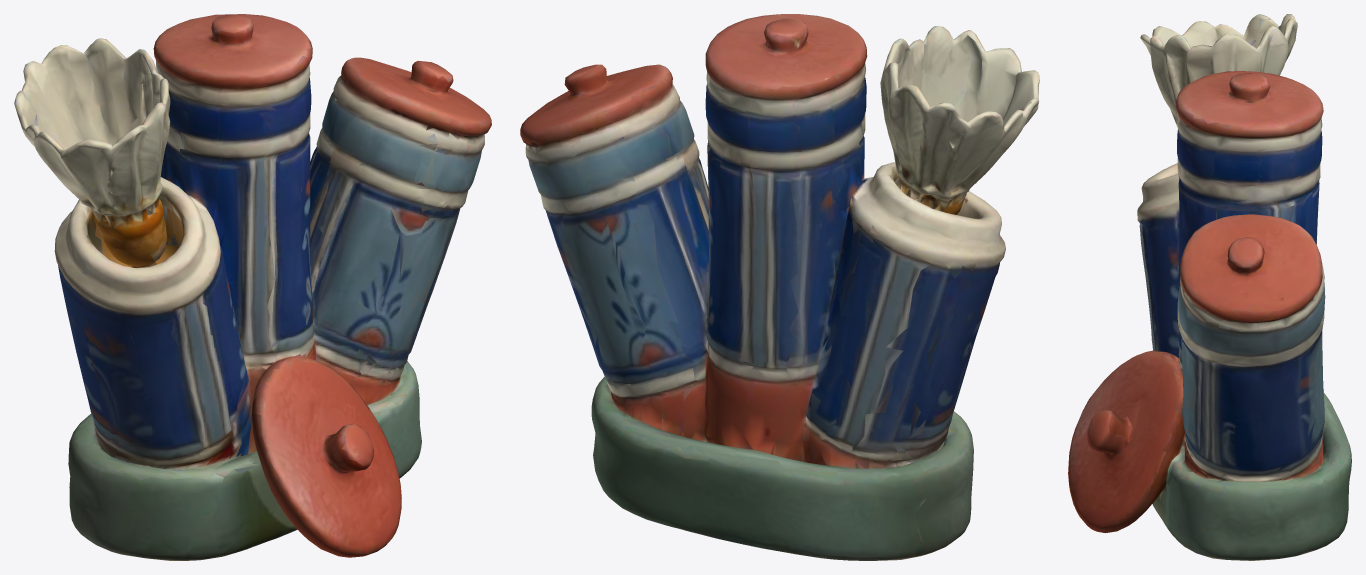
File: sc-shuttle-tubes.glb
The picture shows the model from 3 angles, left to right: view 1: azimuth 30°, elevation 25°; view 2: azimuth 150°, elevation 25°; view 3: azimuth 270°, elevation 25°; orthographic projection. The views are drawn at different scales.
Visible parts, largest first — view 1: geometry_0; view 2: geometry_0; view 3: geometry_0.
Boxes of the visible parts, x1,y1,x2,y2 form: geometry_0: (14, 14, 491, 560); geometry_0: (520, 14, 1039, 560); geometry_0: (1068, 14, 1351, 560).
Size of the model in its own units: 1 by 0.9984 by 0.6003.
Materials: 1 (1 with a texture image).
